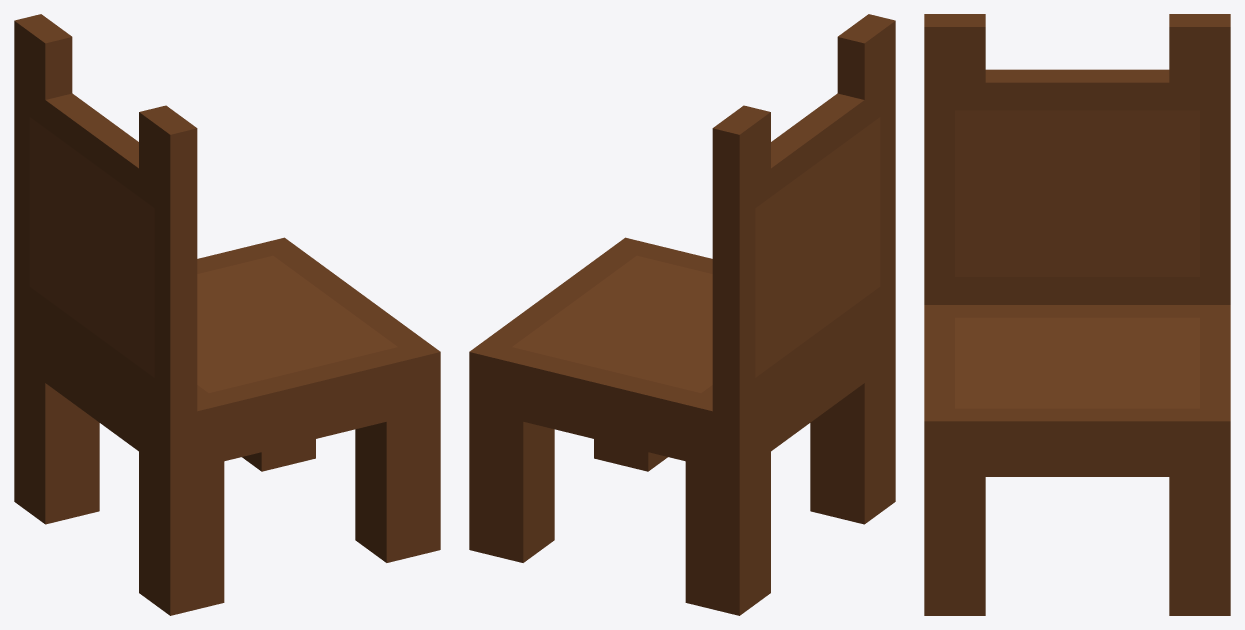
The model's file is chair_wood.dae.
3 renders of one model, left to right at view 1: azimuth 30°, elevation 25°; view 2: azimuth 150°, elevation 25°; view 3: azimuth 270°, elevation 25°, orthographic.
Visible parts, largest first — view 1: PlaneCOL; view 2: PlaneCOL; view 3: PlaneCOL.
Part boxes in pixels (box(x1,y1,x2,y2)): PlaneCOL: box(14, 14, 440, 615); PlaneCOL: box(469, 14, 895, 615); PlaneCOL: box(924, 14, 1230, 615).
Size of the model in its own units: 1 by 1 by 1.7.
